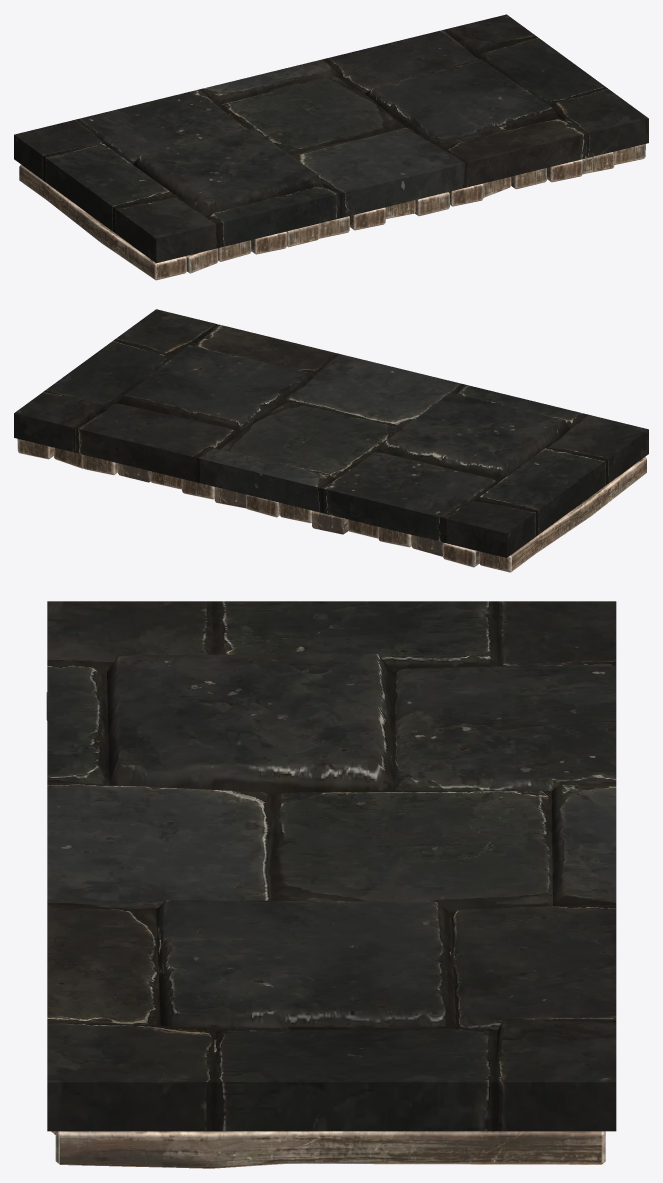
3 views of the same model, one above another, from view 1: azimuth 30°, elevation 25°; view 2: azimuth 150°, elevation 25°; view 3: azimuth 270°, elevation 25° (orthographic). The views are drawn at different scales.
Parts seen in each view (by area): view 1: SM_DeathTemple_Floor_Dmg_4x2_01_v2_LOD0; view 2: SM_DeathTemple_Floor_Dmg_4x2_01_v2_LOD0; view 3: SM_DeathTemple_Floor_Dmg_4x2_01_v2_LOD0.
Part boxes in pixels (<box>): SM_DeathTemple_Floor_Dmg_4x2_01_v2_LOD0: <box>14,14,648,280</box>; SM_DeathTemple_Floor_Dmg_4x2_01_v2_LOD0: <box>14,309,648,572</box>; SM_DeathTemple_Floor_Dmg_4x2_01_v2_LOD0: <box>46,601,616,1168</box>.
Size of the model in its own units: 4 by 0.421 by 2.
2 materials, 2 textured.
